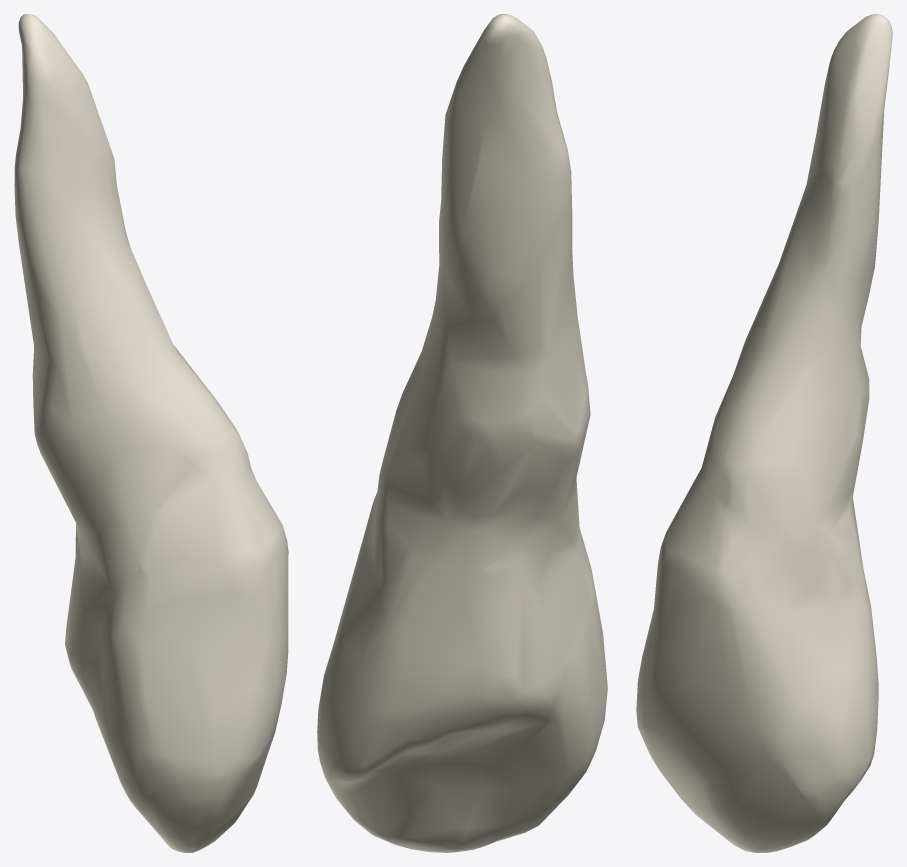
The picture shows the model from 3 angles, left to right: view 1: azimuth 30°, elevation 25°; view 2: azimuth 150°, elevation 25°; view 3: azimuth 270°, elevation 25°; orthographic projection. The views are drawn at different scales.
Parts seen in each view (by area): view 1: ZA_5b2d808b78f7c825; view 2: ZA_5b2d808b78f7c825; view 3: ZA_5b2d808b78f7c825.
Part boxes in pixels (x1,y1,x2,y2): ZA_5b2d808b78f7c825: (14,14,288,852); ZA_5b2d808b78f7c825: (317,14,607,852); ZA_5b2d808b78f7c825: (636,14,892,852).
Bounding box in the file's own units: 0.00906 × 0.0306 × 0.0091.
